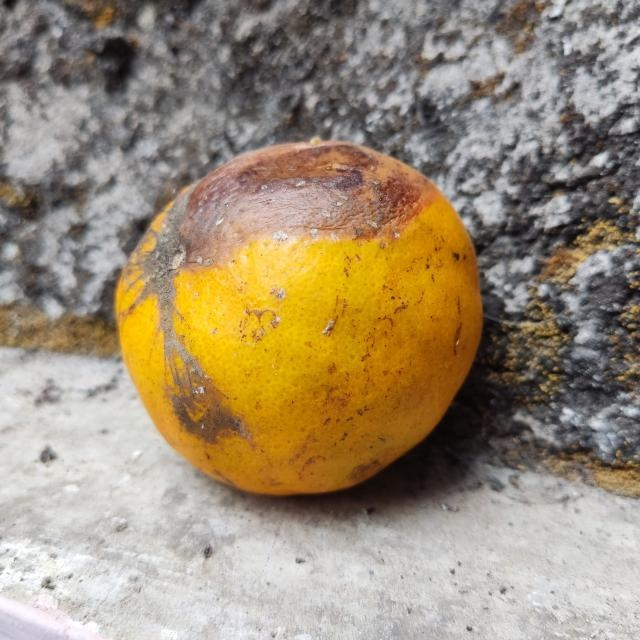agrume: (113, 142, 482, 493)
